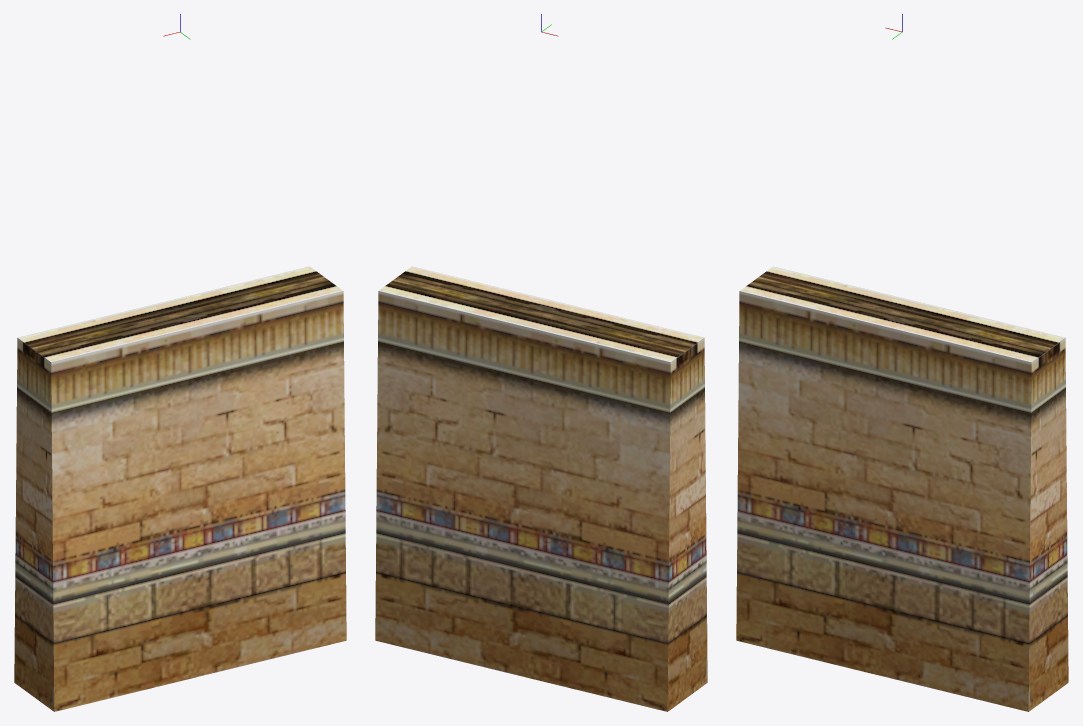
File: egyptian-wall-short.glb
The picture shows the model from 3 angles, left to right: view 1: azimuth 30°, elevation 25°; view 2: azimuth 150°, elevation 25°; view 3: azimuth 330°, elevation 25°; orthographic projection.
Parts seen in each view (by area): view 1: building e wallshort age2Model; view 2: building e wallshort age2Model; view 3: building e wallshort age2Model.
Part boxes in pixels (x1,y1,x2,y2): building e wallshort age2Model: (14, 266, 346, 711); building e wallshort age2Model: (375, 266, 707, 711); building e wallshort age2Model: (736, 266, 1068, 711).
Bounding box in the file's own units: 4.22 × 8.93 × 1.
3 materials, 2 textured.
